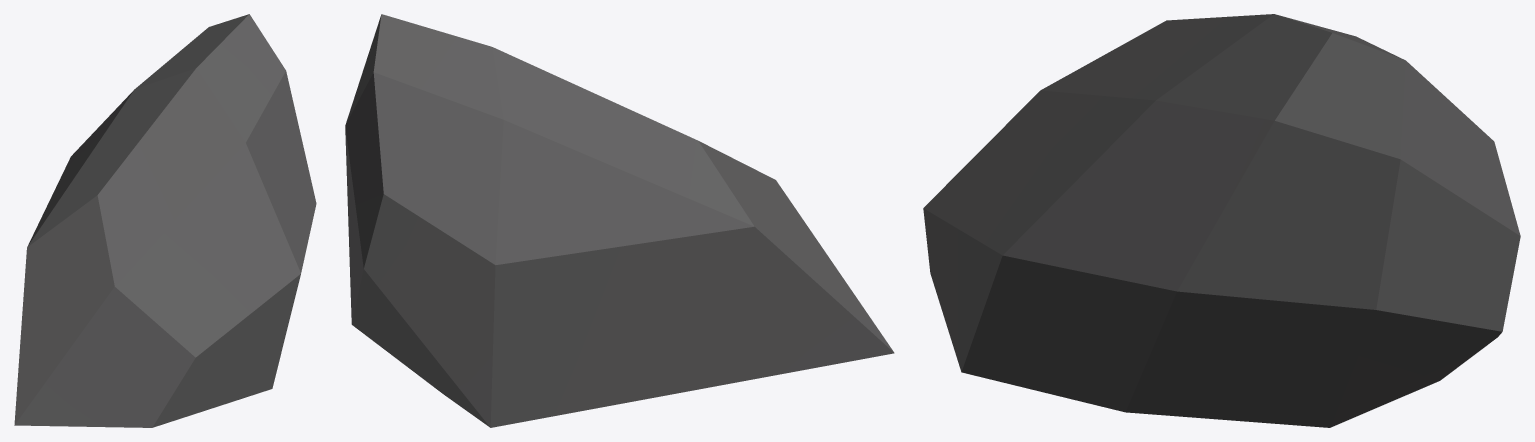
File: StoneC.fbx
3 renders of one model, left to right at view 1: azimuth 30°, elevation 25°; view 2: azimuth 150°, elevation 25°; view 3: azimuth 270°, elevation 25°, orthographic. The views are drawn at different scales.
Parts seen in each view (by area): view 1: Cube.045_cell.010; view 2: Cube.045_cell.010; view 3: Cube.045_cell.010.
Boxes of the visible parts, <box> form: Cube.045_cell.010: <box>14,14,316,427</box>; Cube.045_cell.010: <box>345,14,894,427</box>; Cube.045_cell.010: <box>923,14,1520,427</box>.
Bounding box in the file's own units: 0.7598 × 0.5563 × 0.73.
1 material, 1 textured.
